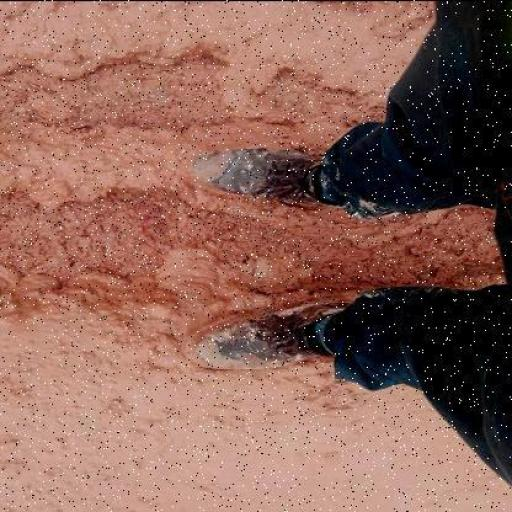safety_shoe: (200, 295, 350, 368), (186, 136, 327, 204)
